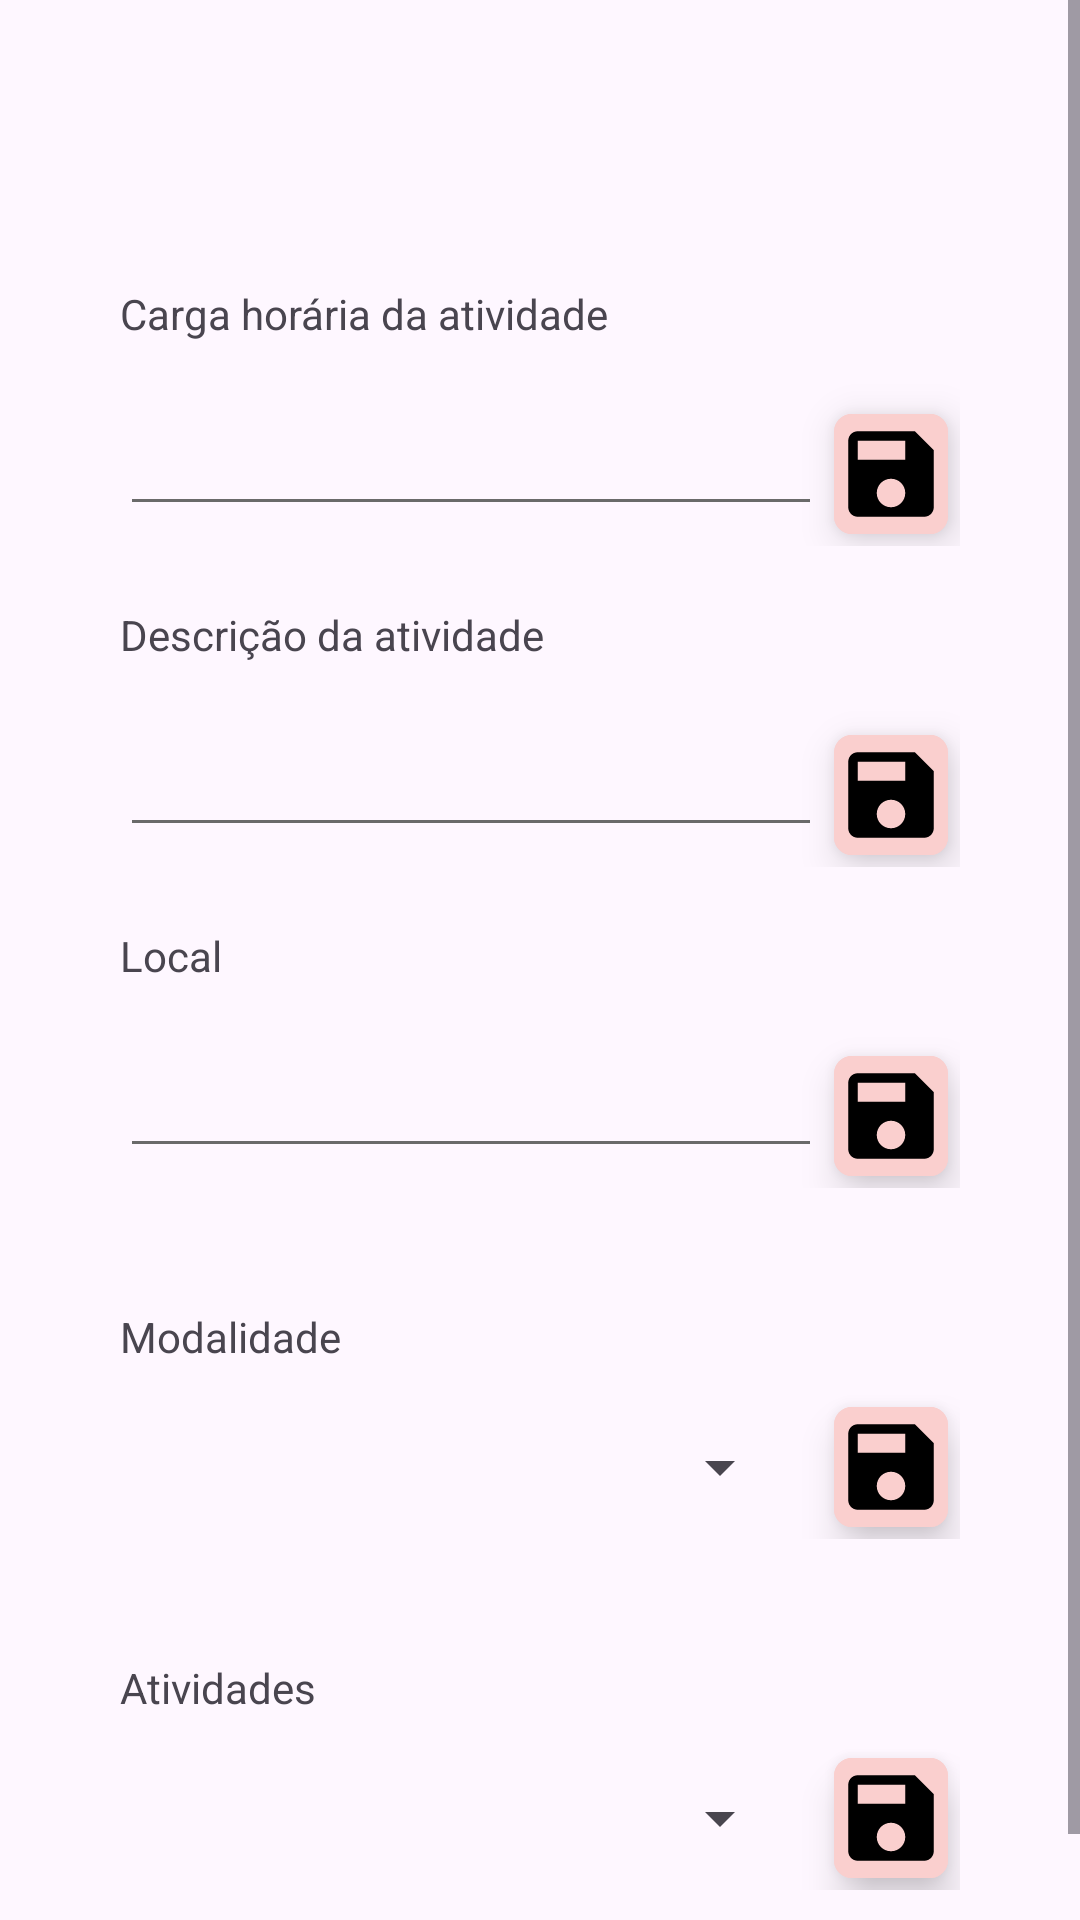

Icons on this 1080x1920 Android screen, each with the point to tap as point (x, y):
save: point (891, 475), point (891, 798), point (891, 1120), point (892, 1473), point (892, 1824)
